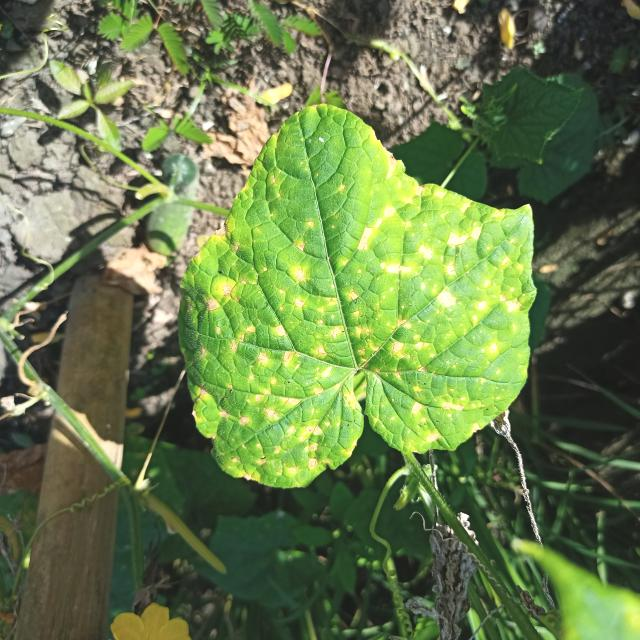disease_cucumber: (190, 133, 524, 473)
